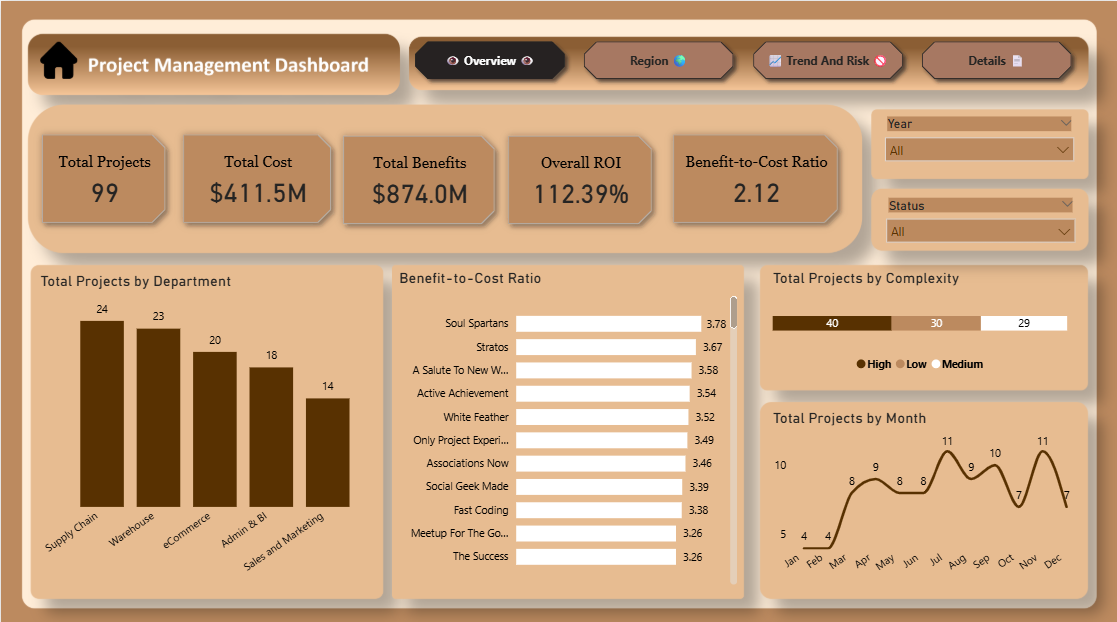

The dashboard page shown, as its layout file describes it:
{"tool":"powerbi","page":{"name":"👁️  Overview  👁️","canvas":[1280,720],"ordinal":1},"visuals":[{"type":"cardVisual","fields":{"Data":["_Measures.Total Projects"]},"box":[30.2,135.8,175.6,135.8],"z":0},{"type":"cardVisual","fields":{"Data":["_Measures.Total Cost"]},"box":[190.7,135.8,203.1,135.8],"z":1000},{"type":"cardVisual","fields":{"Data":["_Measures.Total Benefits"]},"box":[374.6,137.2,207.2,135.8],"z":2000},{"type":"cardVisual","fields":{"Data":["_Measures.Overall ROI"]},"box":[562.6,137.2,199,135.8],"z":3000},{"type":"cardVisual","fields":{"Data":["_Measures.Benefit-to-Cost Ratio"]},"box":[752,135.8,222.3,135.8],"z":4000},{"type":"barChart","fields":{"Y":["_Measures.Total Projects"],"Series":["Project Management Dataset (1).Complexity"]},"box":[876.8,306,349.9,127.6],"z":5000},{"type":"lineChart","fields":{"Y":["_Measures.Total Projects"],"Category":["Date Table.Month Name"]},"box":[876.8,465.2,356.8,207.2],"z":6000},{"type":"barChart","title":"Benefit-to-Cost Ratio ","fields":{"Y":["_Measures.Benefit-to-Cost Ratio"],"Category":["Project Management Dataset (1).Project Name"]},"box":[450.1,306,396.6,366.4],"z":7000},{"type":"columnChart","fields":{"Y":["_Measures.Total Projects"],"Category":["Project Management Dataset (1).Department"]},"box":[39.8,310.1,391.1,366.4],"z":8000},{"type":"image","box":[39.8,38.4,52.1,57.6],"z":9000},{"type":"slicer","fields":{"Values":["Date Table.Year"]},"box":[1000.3,127.6,236,71.4],"z":10000},{"type":"slicer","fields":{"Values":["Project Management Dataset (1).Status"]},"box":[1001.7,219.6,236,64.5],"z":11000},{"type":"pageNavigator","box":[464.3,37.1,770,61.4],"z":12000}]}

Visuals, with their boxes in screenshot pixels (x1, y1, x2, y2), scaled from the page's 1280x720 canvas onto the 1117x622 screenshot:
cardVisual - _Measures.Total Projects: region(26, 117, 180, 235)
cardVisual - _Measures.Total Cost: region(166, 117, 344, 235)
cardVisual - _Measures.Total Benefits: region(327, 119, 508, 236)
cardVisual - _Measures.Overall ROI: region(491, 119, 665, 236)
cardVisual - _Measures.Benefit-to-Cost Ratio: region(656, 117, 850, 235)
barChart - _Measures.Total Projects x Project Management Dataset (1).Complexity: region(765, 264, 1070, 375)
lineChart - _Measures.Total Projects x Date Table.Month Name: region(765, 402, 1077, 581)
"Benefit-to-Cost Ratio " barChart: region(393, 264, 739, 581)
columnChart - _Measures.Total Projects x Project Management Dataset (1).Department: region(35, 268, 376, 584)
image: region(35, 33, 80, 83)
slicer - Date Table.Year: region(873, 110, 1079, 172)
slicer - Project Management Dataset (1).Status: region(874, 190, 1080, 245)
pageNavigator: region(405, 32, 1077, 85)
